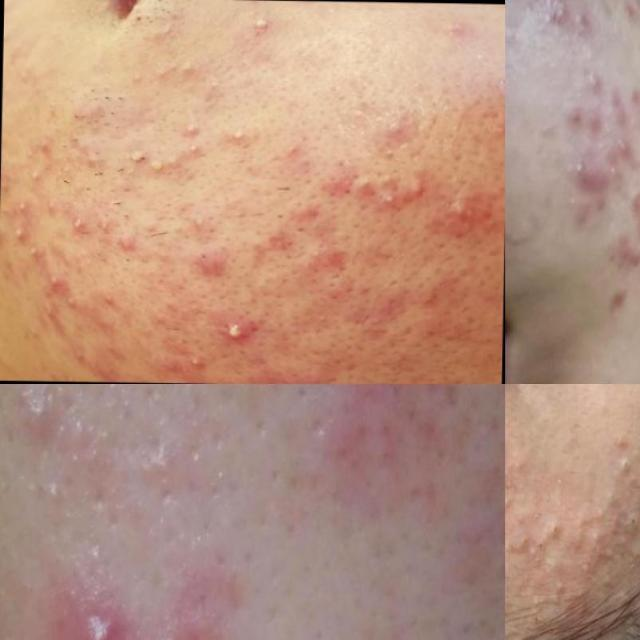acne_scars: (605, 77, 640, 137), (615, 171, 640, 241), (606, 228, 640, 272), (617, 0, 640, 24)
comedone: (520, 570, 576, 614), (622, 481, 640, 536), (373, 139, 407, 167), (548, 0, 576, 32), (399, 178, 437, 200), (613, 448, 638, 479), (544, 512, 567, 541), (602, 161, 626, 188), (562, 186, 583, 216), (280, 142, 308, 160), (515, 531, 536, 555), (375, 170, 399, 189), (355, 174, 377, 192), (583, 530, 600, 551), (597, 564, 614, 584), (541, 3, 554, 29), (596, 502, 608, 524), (630, 540, 640, 562), (525, 0, 540, 10)
folliculitis: (189, 250, 235, 282), (225, 120, 260, 159), (242, 8, 278, 42), (138, 150, 176, 180), (124, 142, 146, 174), (180, 116, 208, 138)
papule: (58, 570, 134, 640), (17, 384, 68, 479), (156, 609, 229, 640), (559, 98, 590, 141), (563, 149, 595, 189), (605, 278, 630, 315), (573, 0, 590, 39), (588, 68, 605, 105), (612, 134, 637, 158)
pustule: (214, 315, 255, 347), (66, 206, 88, 245), (40, 270, 69, 297), (12, 194, 42, 216), (375, 189, 405, 210), (3, 220, 30, 242), (182, 352, 210, 373), (24, 244, 45, 264)
sebo-crystan-conglo: (451, 193, 486, 236)
